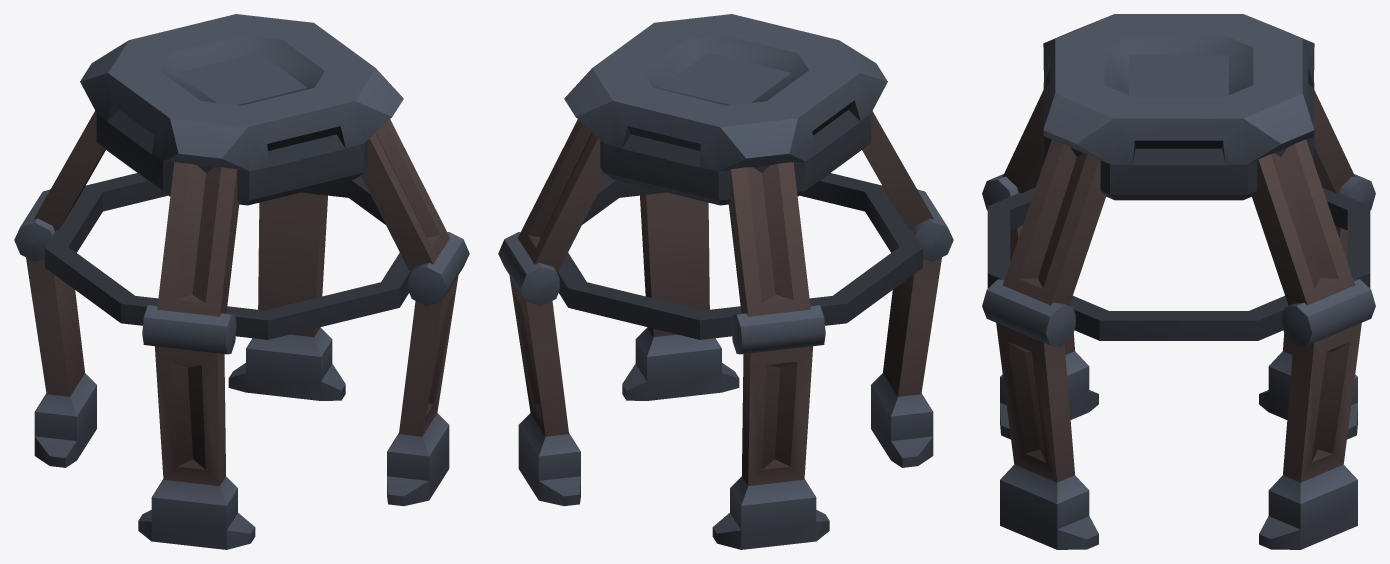
Rendered from structure_tall.glb.
3 views of the same model, side by side, from view 1: azimuth 30°, elevation 25°; view 2: azimuth 150°, elevation 25°; view 3: azimuth 270°, elevation 25° (orthographic). The views are drawn at different scales.
Parts seen in each view (by area): view 1: structure_tall; view 2: structure_tall; view 3: structure_tall.
Boxes of the visible parts, <box> form: structure_tall: <box>14,14,469,549</box>; structure_tall: <box>498,14,953,549</box>; structure_tall: <box>982,14,1375,549</box>.
Bounding box in the file's own units: 1.75 × 2 × 1.75.
Materials: 1 (1 with a texture image).
